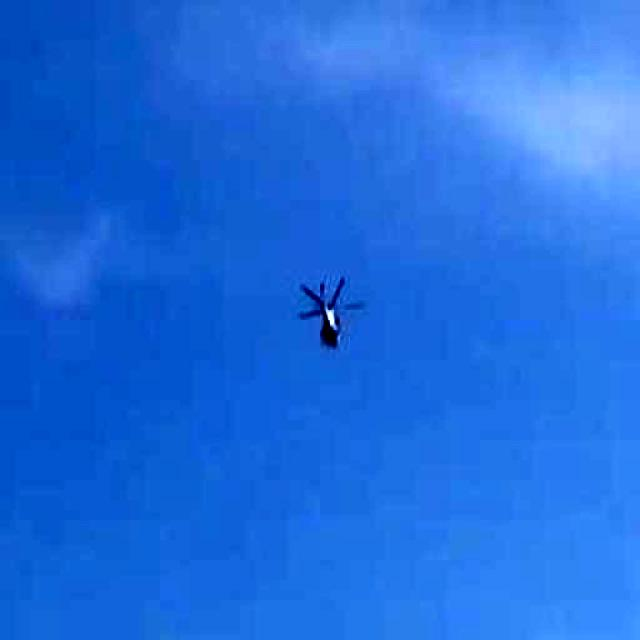drone: (260, 222, 396, 386)
